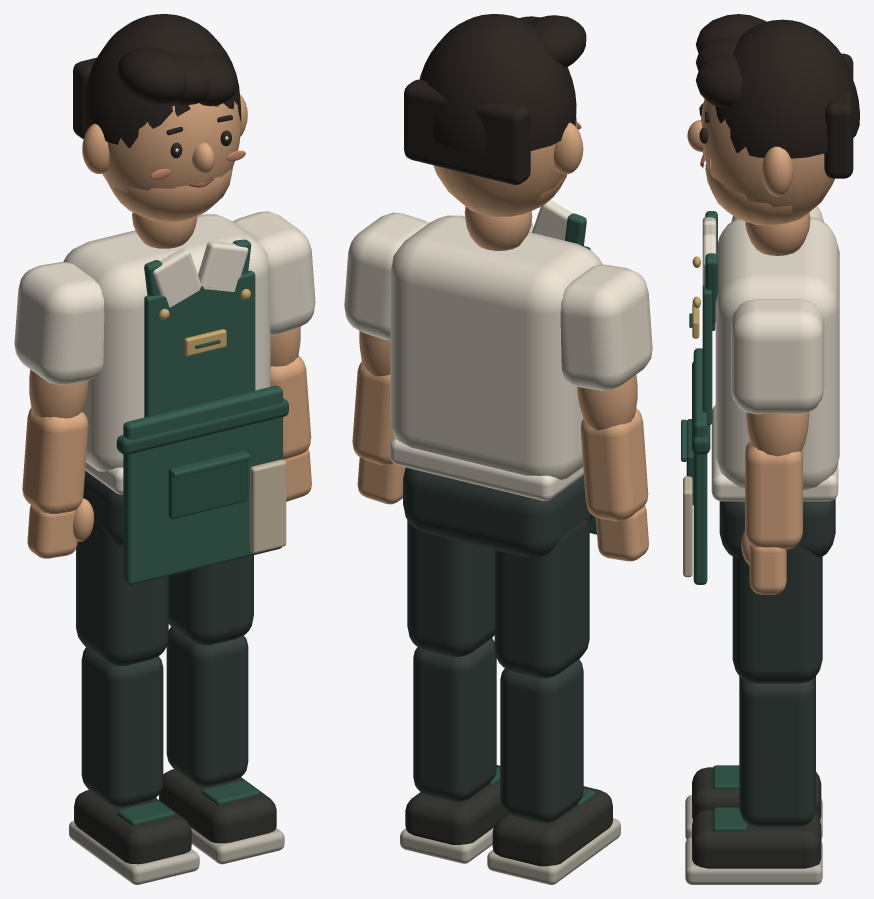
Rendered from barista.glb.
3 renders of one model, left to right at view 1: azimuth 30°, elevation 25°; view 2: azimuth 150°, elevation 25°; view 3: azimuth 270°, elevation 25°, orthographic. The views are drawn at different scales.
Visible parts, largest first — view 1: Spine_crew_apron, Spine_crew_shirt, Head_crew_hair, Head_crew_skin, LeftKnee_crew_trousers, RightKnee_crew_trousers, LeftShoulder_crew_shirt, LeftHip_crew_trousers, RightHip_crew_trousers, Spine_crew_seam, LeftElbow_crew_skin, RightShoulder_crew_shirt (+15 smaller); view 2: Spine_crew_shirt, Head_crew_hair, LeftKnee_crew_trousers, RightKnee_crew_trousers, LeftHip_crew_trousers, Hips_crew_trousers, LeftShoulder_crew_shirt, RightHip_crew_trousers, LeftElbow_crew_skin, Head_crew_skin, RightShoulder_crew_shirt, LeftAnkle_crew_shoes (+10 smaller); view 3: Head_crew_hair, Spine_crew_shirt, RightKnee_crew_trousers, RightShoulder_crew_shirt, RightHip_crew_trousers, Head_crew_skin, RightAnkle_crew_shoes, RightElbow_crew_skin, Spine_crew_apron, Hips_crew_trousers, RightAnkle_crew_soles, RightShoulder_crew_skin (+9 smaller).
Boxes of the visible parts, box(x1,y1,x2,y2) form: Spine_crew_apron: box(123, 239, 282, 584); Spine_crew_shirt: box(63, 214, 270, 494); Head_crew_hair: box(73, 14, 240, 147); Head_crew_skin: box(82, 94, 247, 221); LeftKnee_crew_trousers: box(81, 647, 163, 807); RightKnee_crew_trousers: box(166, 626, 248, 786); LeftShoulder_crew_shirt: box(14, 262, 104, 385); LeftHip_crew_trousers: box(76, 521, 168, 665); RightHip_crew_trousers: box(168, 555, 253, 645); Spine_crew_seam: box(116, 340, 288, 518); LeftElbow_crew_skin: box(22, 408, 88, 513); RightShoulder_crew_shirt: box(232, 211, 315, 335); Spine_crew_shirt: box(390, 200, 602, 500); Head_crew_hair: box(404, 14, 586, 184); LeftKnee_crew_trousers: box(500, 659, 583, 822); RightKnee_crew_trousers: box(413, 638, 496, 801); LeftHip_crew_trousers: box(494, 519, 589, 678); Hips_crew_trousers: box(403, 467, 592, 557); LeftShoulder_crew_shirt: box(560, 264, 652, 390); RightHip_crew_trousers: box(407, 520, 494, 656); LeftElbow_crew_skin: box(580, 408, 648, 521); Head_crew_skin: box(433, 115, 583, 216); RightShoulder_crew_shirt: box(344, 212, 428, 339); LeftAnkle_crew_shoes: box(492, 786, 612, 866); Head_crew_hair: box(696, 14, 859, 178); Spine_crew_shirt: box(702, 216, 839, 501); RightKnee_crew_trousers: box(739, 677, 815, 826); RightShoulder_crew_shirt: box(731, 299, 824, 414); RightHip_crew_trousers: box(732, 547, 822, 683); Head_crew_skin: box(687, 99, 834, 225); RightAnkle_crew_shoes: box(692, 809, 821, 868); RightElbow_crew_skin: box(745, 441, 802, 549); Spine_crew_apron: box(681, 211, 717, 584); Hips_crew_trousers: box(719, 499, 835, 557); RightAnkle_crew_soles: box(685, 837, 822, 884); RightShoulder_crew_skin: box(746, 412, 809, 456).
Size of the model in its own units: 0.6081 by 1.72 by 0.3389.
